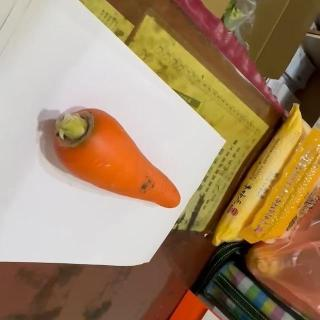carrot: (49, 106, 183, 208)
